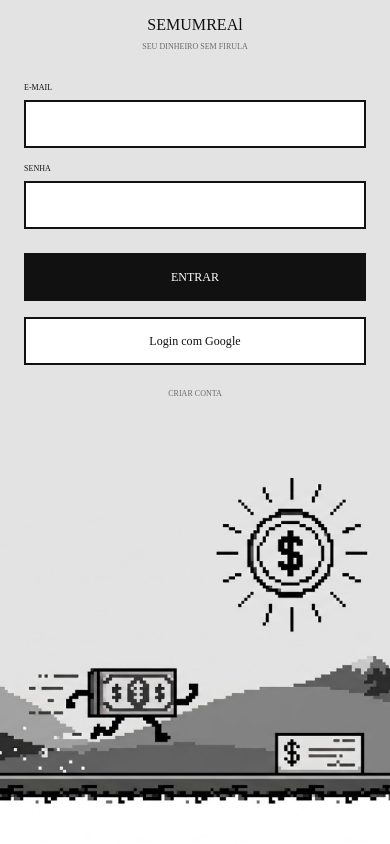
<LoginScreen /> › mostra a mensagem quando o Google retorna erro
The image size is (390, 844).
Click the button "Login com Google": (195, 341) [24,317,366,365]
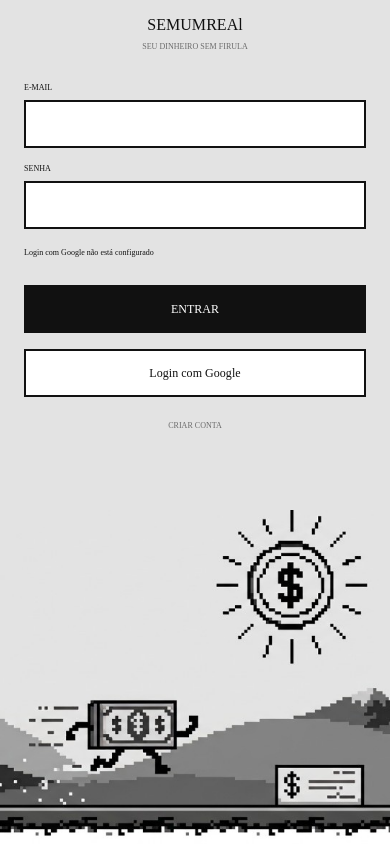
Now the text "Login com Google não está configurado" is shown, box [24,248,154,257]
